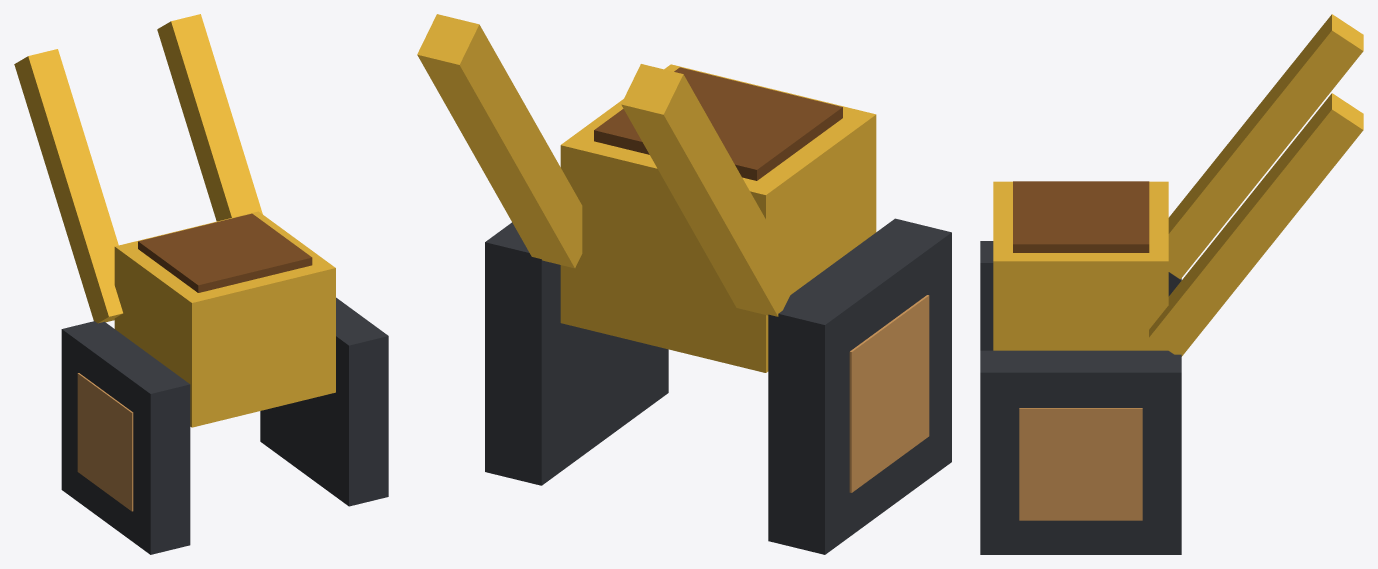
The model's file is machine-seeder.glb.
3 views of the same model, side by side, from view 1: azimuth 30°, elevation 25°; view 2: azimuth 150°, elevation 25°; view 3: azimuth 270°, elevation 25° (orthographic). The views are drawn at different scales.
Visible parts, largest first — view 1: Hopper, Wheel, Wheel.001, Handle, Handle.001, Seeds, Hub; view 2: Hopper, Wheel, Wheel.001, Handle, Handle.001, Hub, Seeds; view 3: Wheel.001, Hopper, Handle.001, Handle, Hub.001, Seeds, Wheel.
Part boxes in pixels (<box>): Hopper: <box>114,211,335,427</box>; Wheel: <box>61,321,190,554</box>; Wheel.001: <box>260,297,388,506</box>; Handle: <box>14,49,122,323</box>; Handle.001: <box>157,14,262,221</box>; Seeds: <box>138,213,312,292</box>; Hub: <box>77,373,133,511</box>; Hopper: <box>560,64,876,372</box>; Wheel: <box>768,218,951,554</box>; Wheel.001: <box>485,222,668,485</box>; Handle: <box>621,64,798,316</box>; Handle.001: <box>417,14,582,268</box>; Hub: <box>849,295,929,492</box>; Seeds: <box>594,67,842,180</box>; Wheel.001: <box>980,350,1181,554</box>; Hopper: <box>993,181,1168,350</box>; Handle.001: <box>1149,93,1363,356</box>; Handle: <box>1168,14,1363,279</box>; Hub.001: <box>1019,408,1142,520</box>; Seeds: <box>1013,181,1149,252</box>; Wheel: <box>980,241,1181,350</box>.
Bounding box in the file's own units: 0.972 × 1.45 × 1.18.
